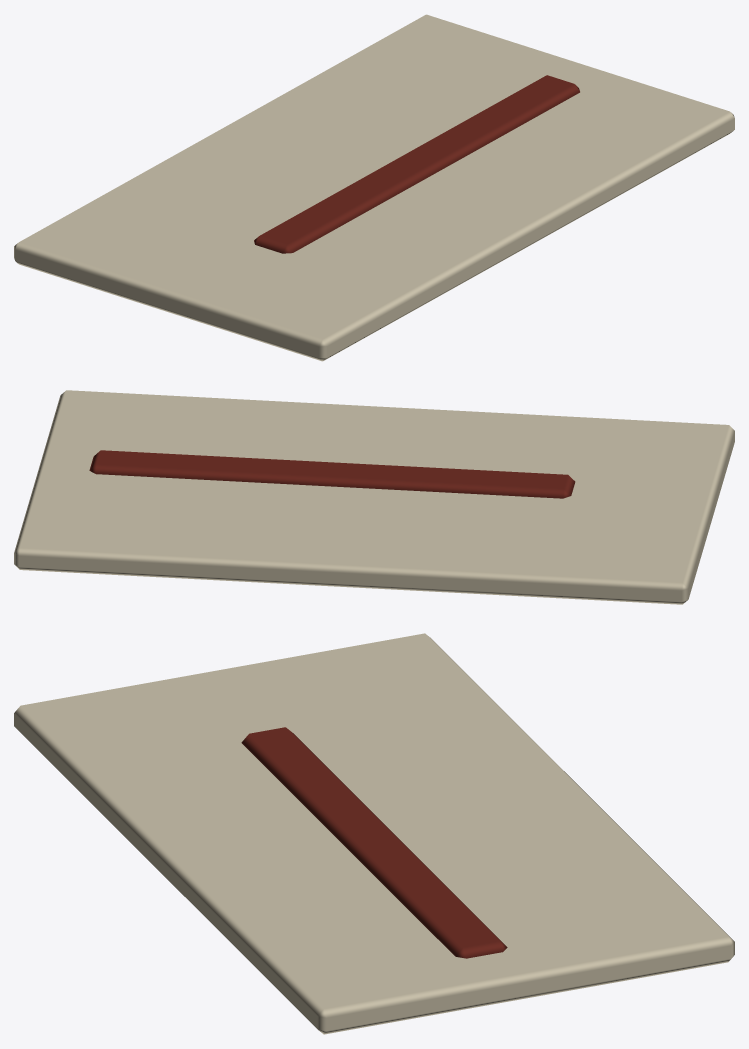
The model's file is paper.b0682b26.glb.
3 views of the same model, one above another, from view 1: azimuth 30°, elevation 25°; view 2: azimuth 150°, elevation 25°; view 3: azimuth 270°, elevation 25° (orthographic). The views are drawn at different scales.
Parts seen in each view (by area): view 1: body; view 2: body; view 3: body.
Part boxes in pixels (x1,y1,x2,y2): body: [14, 14, 734, 361]; body: [14, 390, 734, 604]; body: [14, 633, 734, 1034].
Bounding box in the file's own units: 0.3183 × 0.013 × 0.2545.
